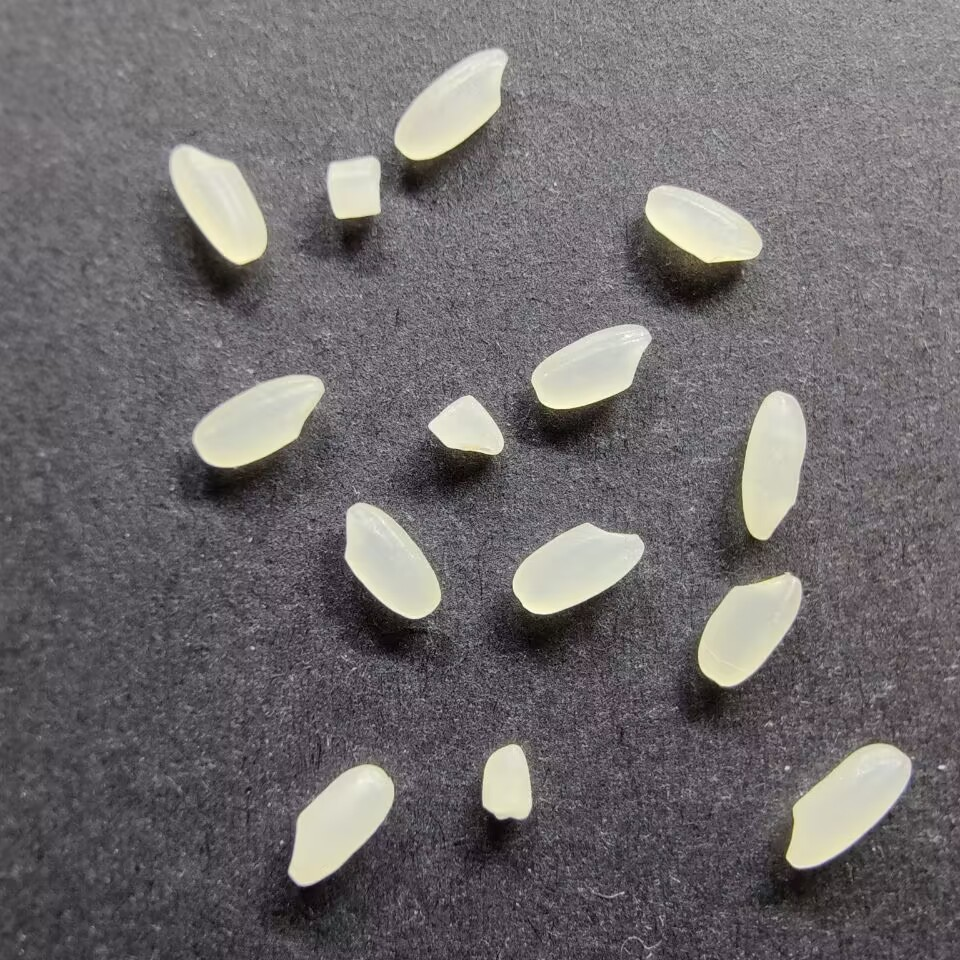broken: (427, 391, 505, 458), (479, 741, 534, 823), (325, 156, 384, 220)
rice: (784, 742, 912, 871), (390, 48, 512, 162), (285, 762, 395, 888), (191, 373, 326, 470), (697, 570, 804, 689), (510, 522, 645, 615), (167, 143, 268, 265), (342, 501, 442, 622), (530, 322, 653, 410), (739, 389, 810, 541), (642, 184, 765, 263)
